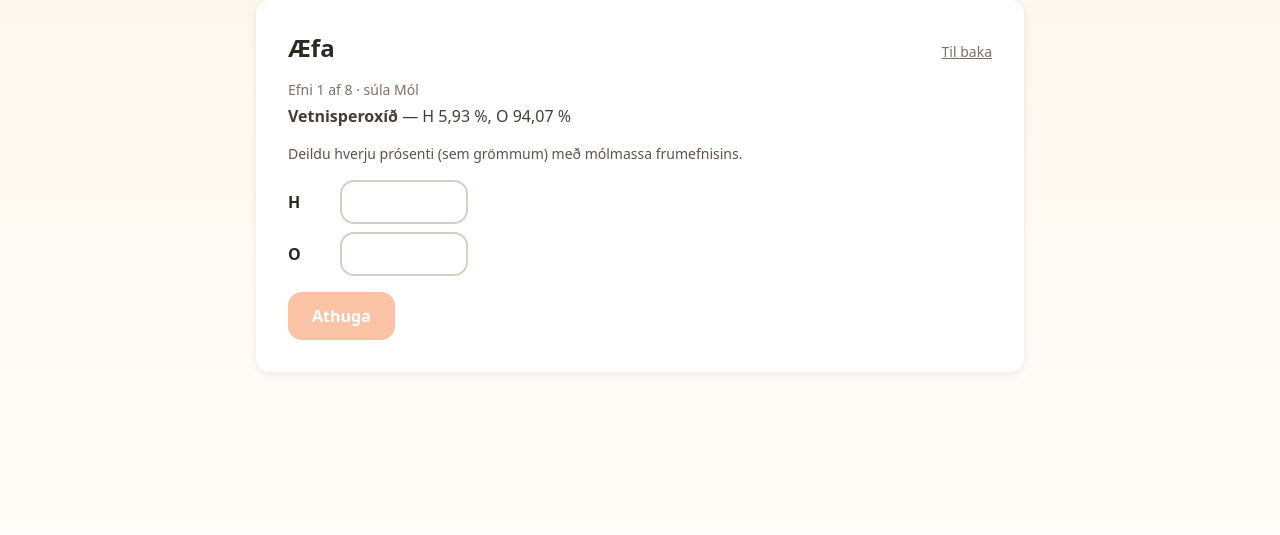
Scenario: Æfa › on a desktop window, "Athuga" brings a verdict that lands below the fold into view
In the field named "Mól fyrir H": coordinates (404, 202) [340, 180, 468, 224], type "0"
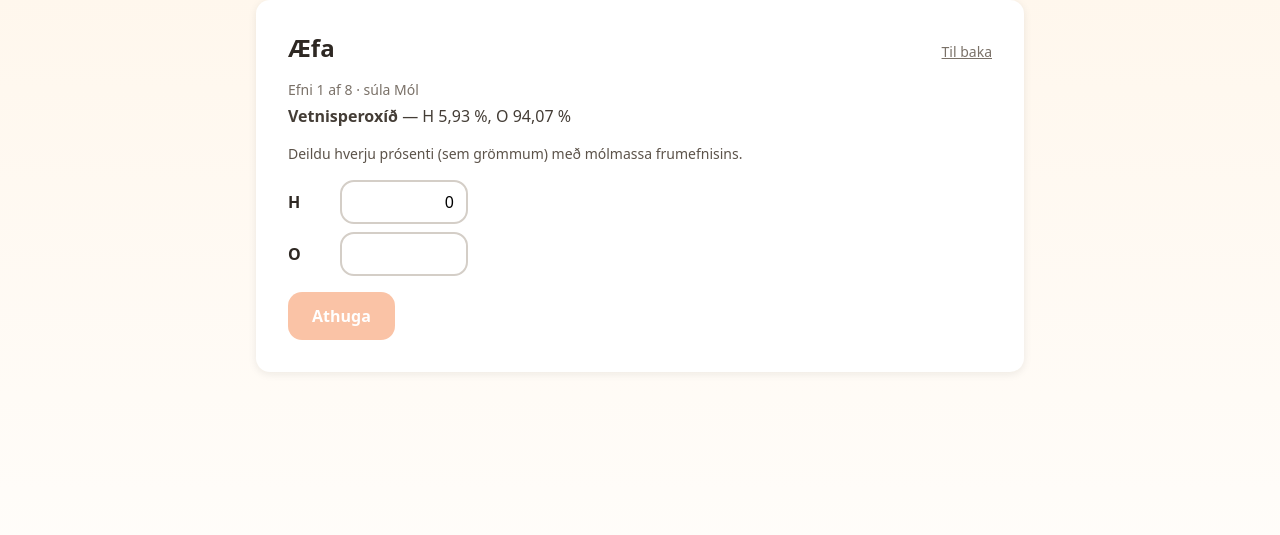
In the field named "Mól fyrir O": coordinates (404, 254) [340, 232, 468, 276], type "0"
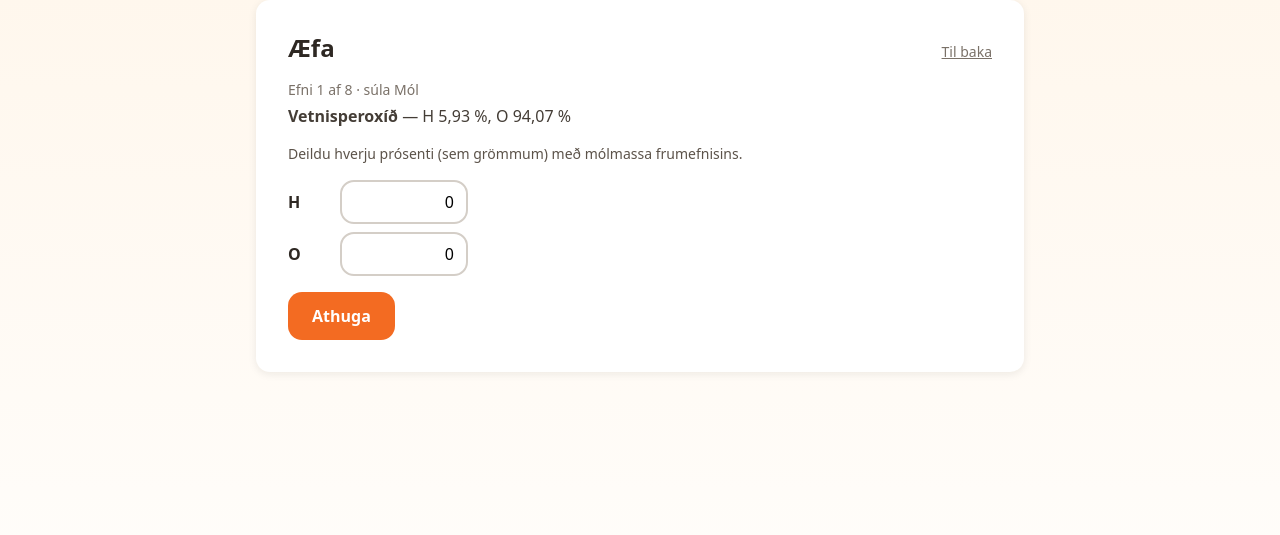
Click the button "Athuga": coordinates (341, 316) [288, 292, 395, 340]
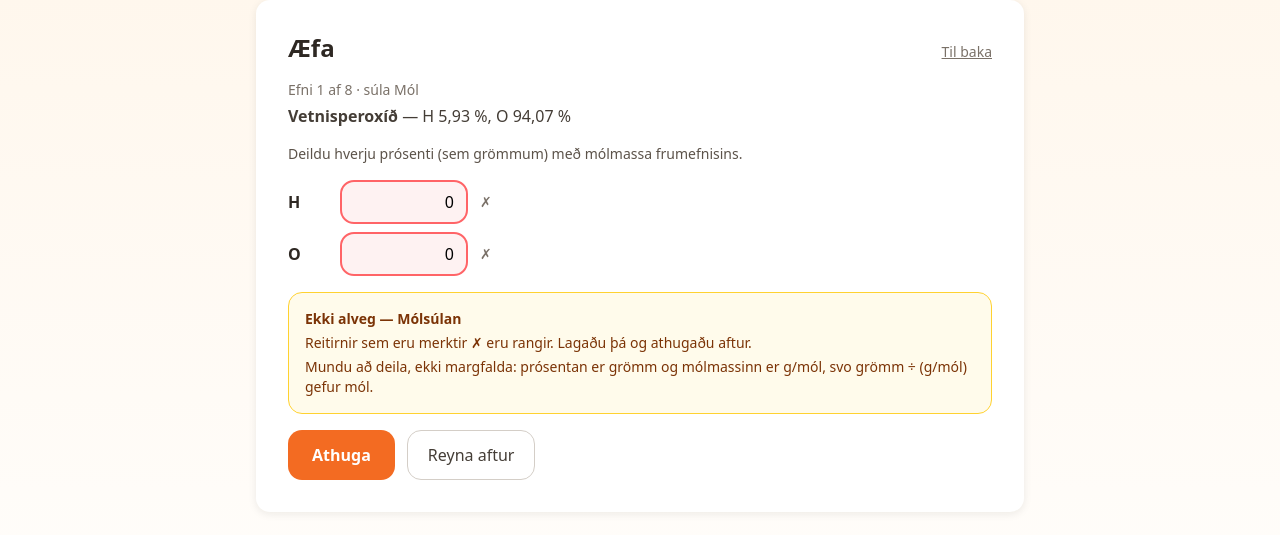
Expected: the text "Ekki alveg" is shown, [305, 309, 397, 328]
